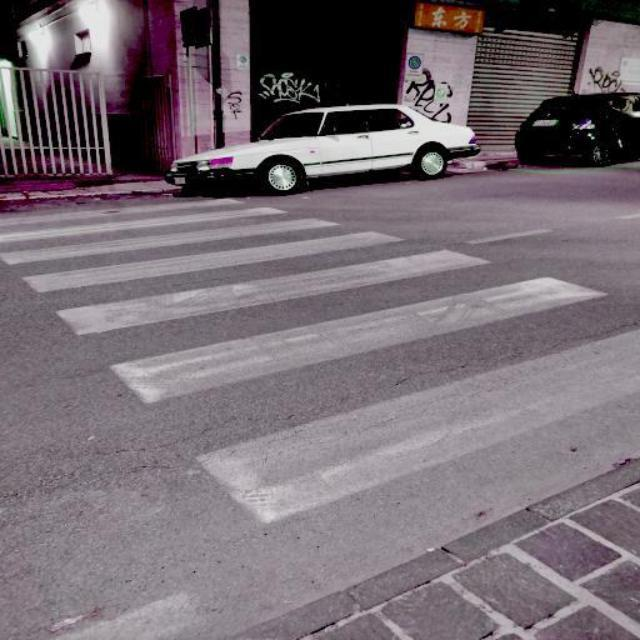sidewalk: (0, 190, 640, 604)
